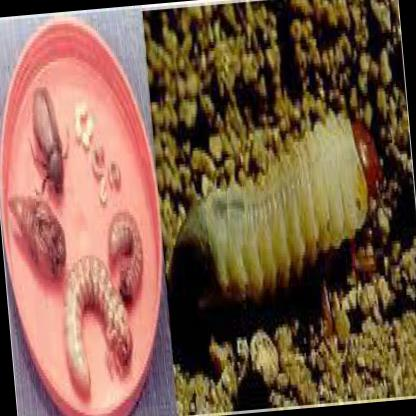root grubs: (177, 118, 387, 314), (61, 253, 137, 395)
